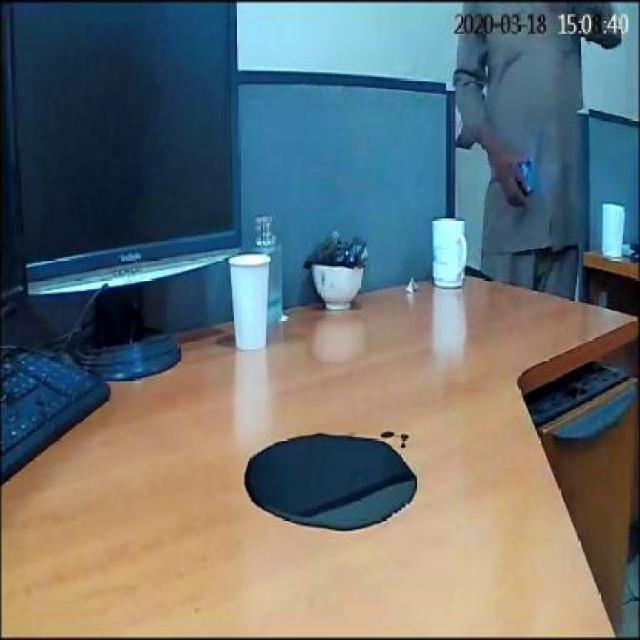spill: (248, 432, 420, 540)
